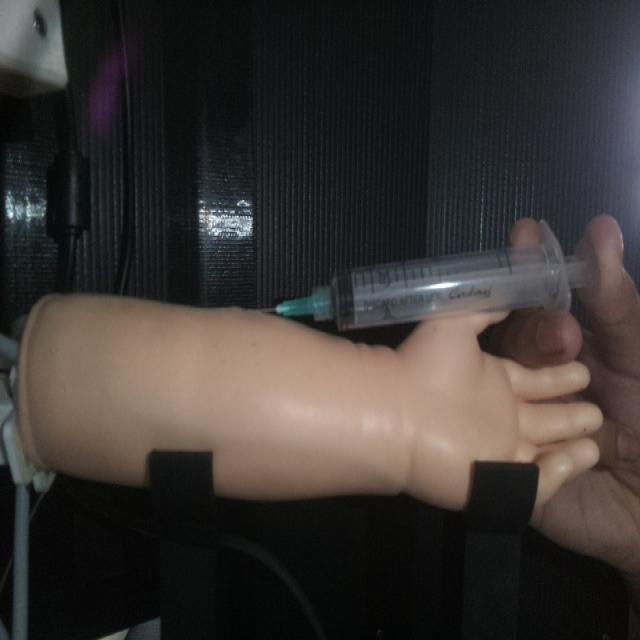Outside: (243, 213, 605, 338)
